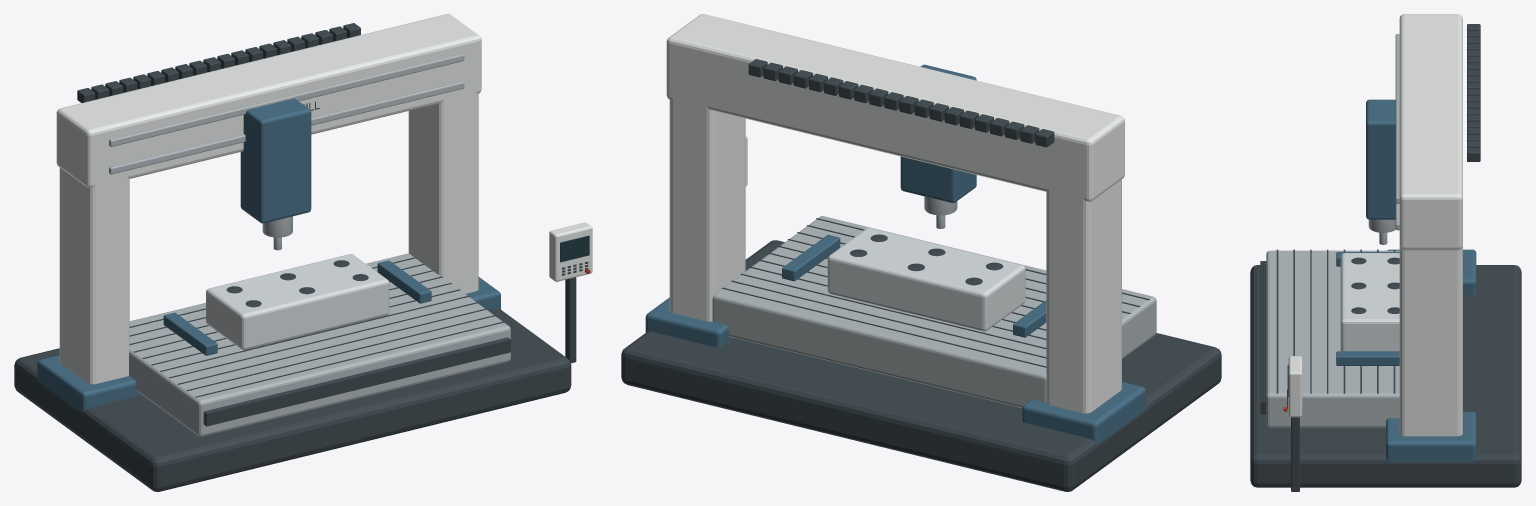
File: gantry.glb
3 views of the same model, side by side, from view 1: azimuth 30°, elevation 25°; view 2: azimuth 150°, elevation 25°; view 3: azimuth 270°, elevation 25° (orthographic). The views are drawn at different scales.
Parts seen in each view (by area): view 1: GANTRY | crossbeam, GANTRY | foundation, GANTRY | bed, GANTRY | column, GANTRY | column.001, GANTRY | workpiece, GANTRY | spindle slide, GANTRY | telescopic way cover, GANTRY | cross rail.001, GANTRY | column shoe, GANTRY | cross rail, GANTRY controller (+5 smaller); view 2: GANTRY | foundation, GANTRY | crossbeam, GANTRY | bed, GANTRY | column, GANTRY | column.001, GANTRY | workpiece, GANTRY | column shoe, GANTRY | spindle slide, GANTRY | column shoe.001, GANTRY | clamp.001, GANTRY | clamp, GANTRY | table slots.010; view 3: GANTRY | foundation, GANTRY | bed, GANTRY | crossbeam, GANTRY | column.001, GANTRY | workpiece, GANTRY | spindle slide, GANTRY | column shoe.001, GANTRY | clamp.001, GANTRY controller, GANTRY | cross rail.001, GANTRY control stem, GANTRY | column shoe (+6 smaller).
Part boxes in pixels (bbox=[...]): GANTRY | crossbeam: bbox=[56, 14, 481, 188]; GANTRY | foundation: bbox=[14, 308, 571, 491]; GANTRY | bed: bbox=[129, 253, 510, 436]; GANTRY | column: bbox=[59, 140, 129, 384]; GANTRY | column.001: bbox=[408, 50, 478, 293]; GANTRY | workpiece: bbox=[206, 254, 389, 350]; GANTRY | spindle slide: bbox=[240, 98, 311, 223]; GANTRY | telescopic way cover: bbox=[206, 339, 510, 426]; GANTRY | cross rail.001: bbox=[109, 53, 464, 146]; GANTRY | column shoe: bbox=[37, 355, 141, 412]; GANTRY | cross rail: bbox=[109, 81, 464, 174]; GANTRY controller: bbox=[549, 222, 592, 281]; GANTRY | foundation: bbox=[621, 240, 1221, 491]; GANTRY | crossbeam: bbox=[666, 14, 1124, 201]; GANTRY | bed: bbox=[712, 216, 1156, 407]; GANTRY | column: bbox=[1046, 146, 1121, 413]; GANTRY | column.001: bbox=[669, 53, 745, 321]; GANTRY | workpiece: bbox=[827, 227, 1025, 331]; GANTRY | column shoe: bbox=[1022, 382, 1145, 444]; GANTRY | spindle slide: bbox=[900, 64, 976, 202]; GANTRY | column shoe.001: bbox=[645, 297, 733, 347]; GANTRY | clamp.001: bbox=[782, 234, 840, 281]; GANTRY | clamp: bbox=[1013, 300, 1046, 337]; GANTRY | table slots.010: bbox=[721, 287, 1046, 367]; GANTRY | foundation: bbox=[1250, 265, 1521, 487]; GANTRY | bed: bbox=[1266, 250, 1399, 427]; GANTRY | crossbeam: bbox=[1399, 14, 1462, 250]; GANTRY | column.001: bbox=[1399, 246, 1462, 436]; GANTRY | workpiece: bbox=[1340, 253, 1399, 351]; GANTRY | spindle slide: bbox=[1366, 99, 1395, 219]; GANTRY | column shoe.001: bbox=[1386, 411, 1476, 462]; GANTRY | clamp.001: bbox=[1336, 351, 1399, 365]; GANTRY controller: bbox=[1288, 356, 1302, 417]; GANTRY | cross rail.001: bbox=[1395, 34, 1399, 203]; GANTRY control stem: bbox=[1291, 417, 1299, 491]; GANTRY | column shoe: bbox=[1387, 249, 1476, 294].
Bounding box in the file's own units: 5.58 × 3.56 × 3.
